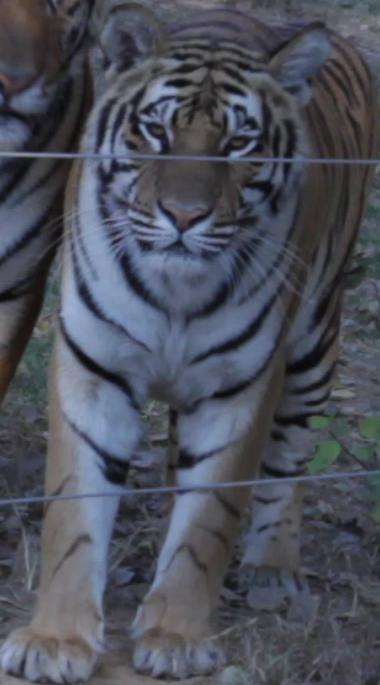tiger: (47, 0, 378, 492), (132, 483, 303, 677), (0, 496, 119, 680)
